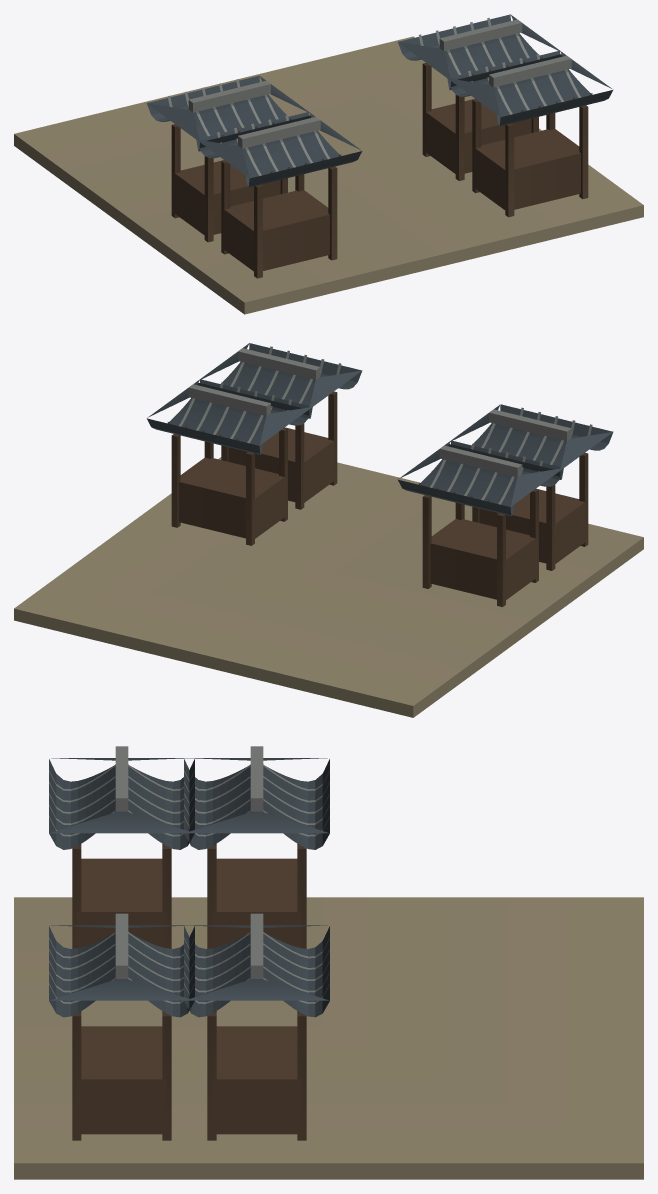
File: market-1.glb
3 renders of one model, top to bottom at view 1: azimuth 30°, elevation 25°; view 2: azimuth 150°, elevation 25°; view 3: azimuth 270°, elevation 25°, orthographic. The views are drawn at different scales.
Visible parts, largest first — view 1: market 1 4, market 1 3, market 1 2, market 1 5; view 2: market 1 4, market 1 3, market 1 2, market 1 5; view 3: market 1 4, market 1 3, market 1 2, market 1 5.
Part boxes in pixels (x1,y1,x2,y2): market 1 4: (14, 36, 643, 314); market 1 3: (171, 63, 588, 278); market 1 2: (146, 14, 613, 187); market 1 5: (167, 17, 592, 175); market 1 4: (14, 457, 643, 717); market 1 3: (171, 391, 588, 607); market 1 2: (146, 343, 613, 516); market 1 5: (167, 346, 592, 504); market 1 4: (14, 897, 643, 1179); market 1 3: (72, 844, 306, 1140); market 1 2: (49, 758, 329, 1017); market 1 5: (49, 746, 329, 1003).
Bounding box in the file's own units: 2.8 × 0.935 × 2.8.
